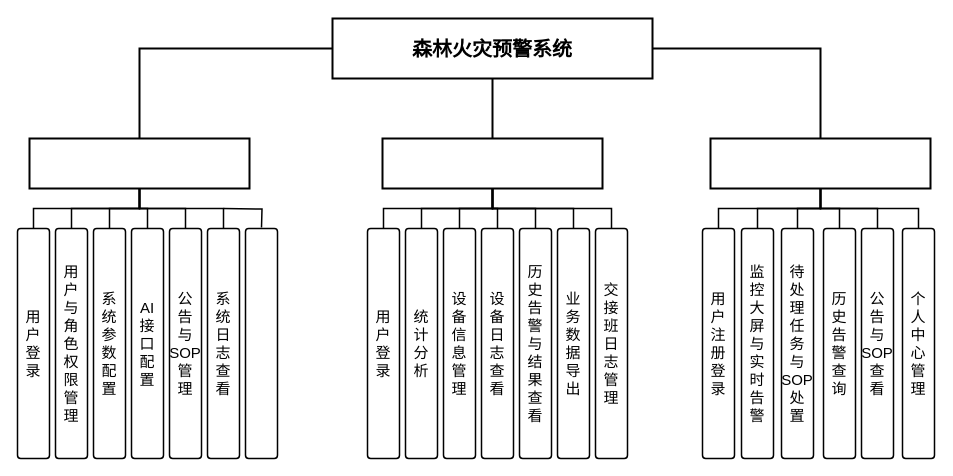
The diagram is 953 pixels wide and 476 high, and some of its shapes have lost their labels. The shapes that lost their labels are listed below. From the top down, each one's box as (x1, y1, x2, y2) in pixels, then its label:
(28, 137, 250, 189): 系统管理员模块
(381, 137, 603, 189): 安全主管模块
(709, 137, 931, 189): 安全操作员模块
(244, 227, 278, 459): 数 据 备 份
